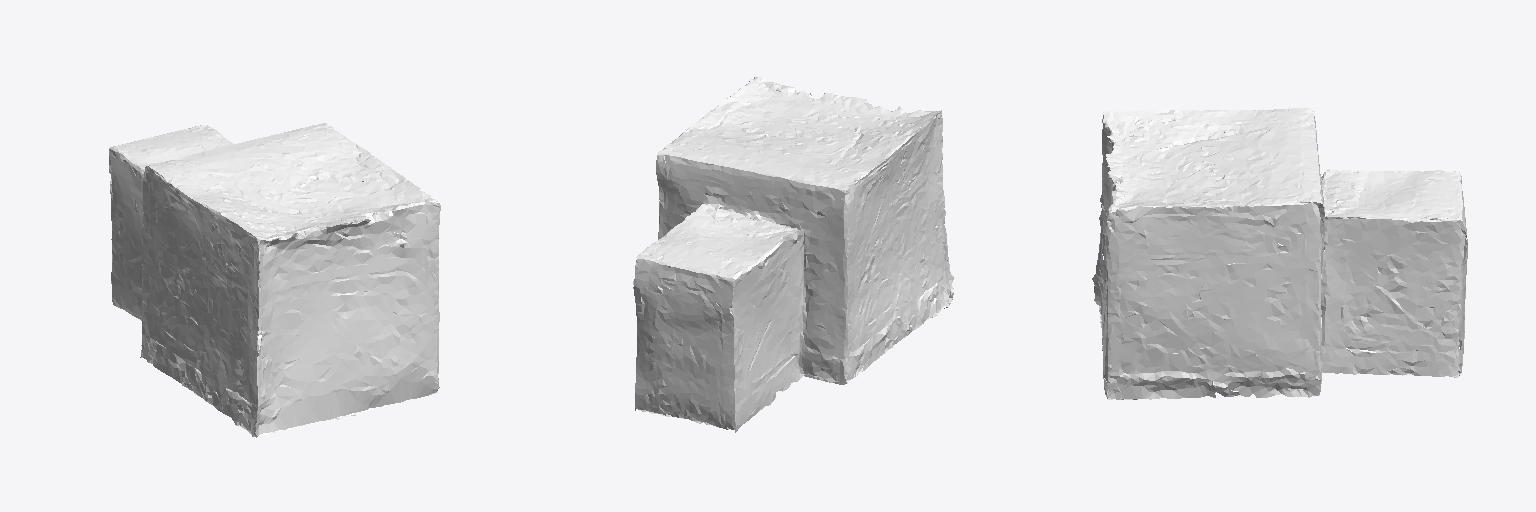
The model's file is mars-base.obj.
The picture shows the model from 3 angles: view 1: azimuth 30°, elevation 25°; view 2: azimuth 150°, elevation 25°; view 3: azimuth 270°, elevation 25°; orthographic projection.
Size of the model in its own units: 20.42 by 20.25 by 33.44.